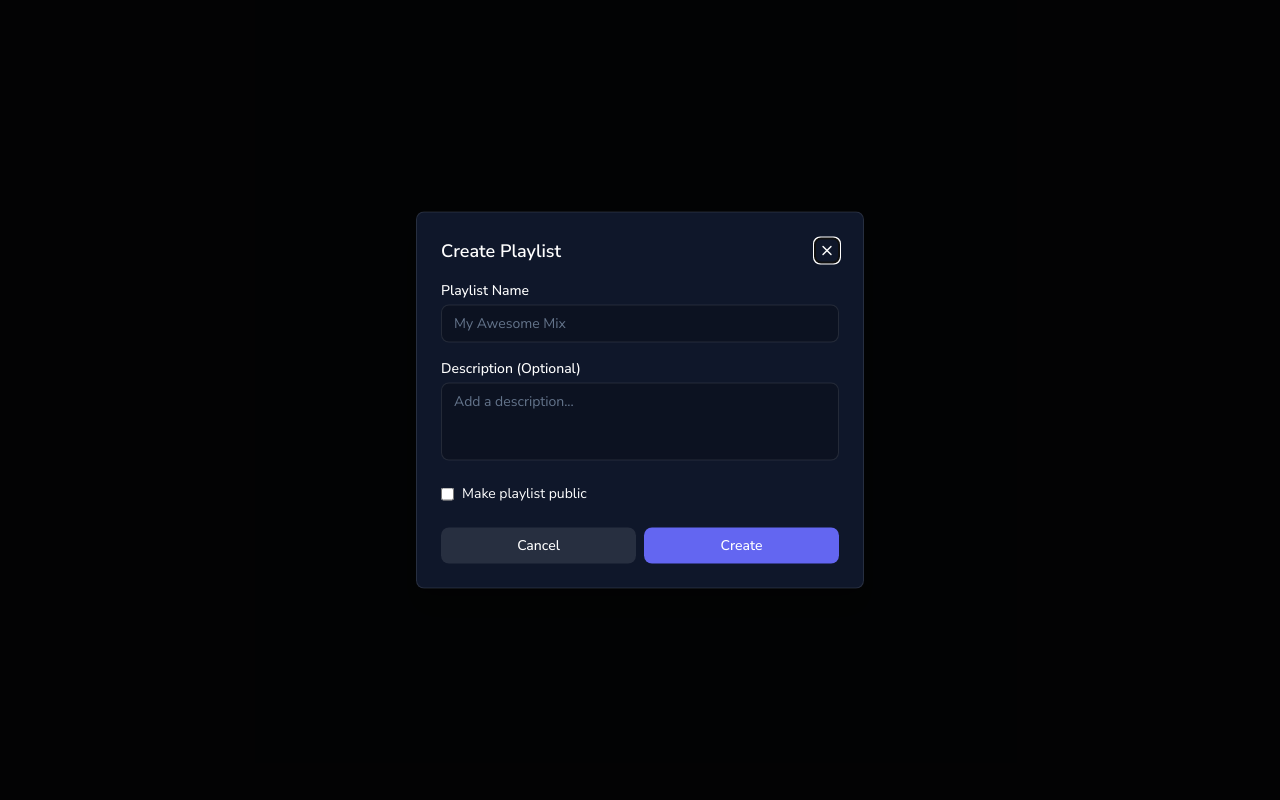
CreatePlaylistModal Component › should validate name is required
Click the button "Create": (742, 546) [644,528,839,564]
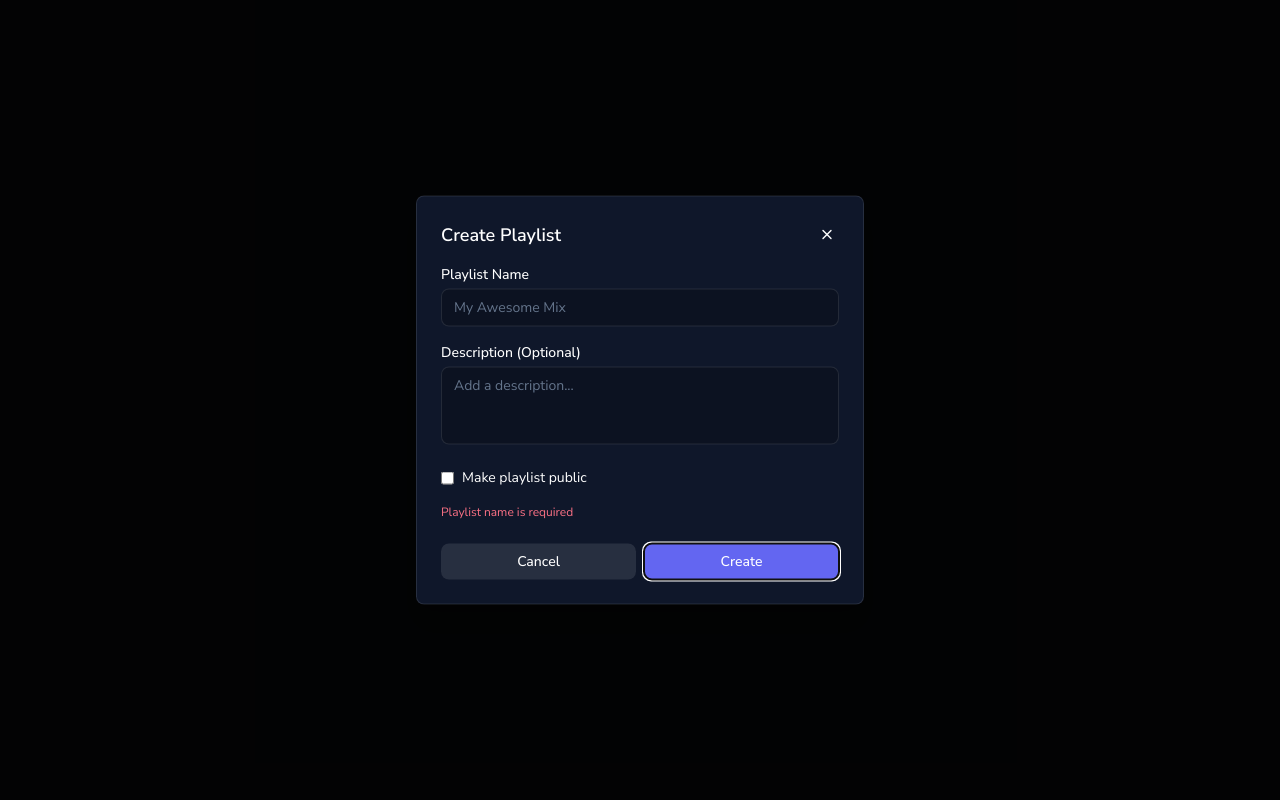
Check: the text "Playlist name is required" is shown, box [441,504,573,520]
